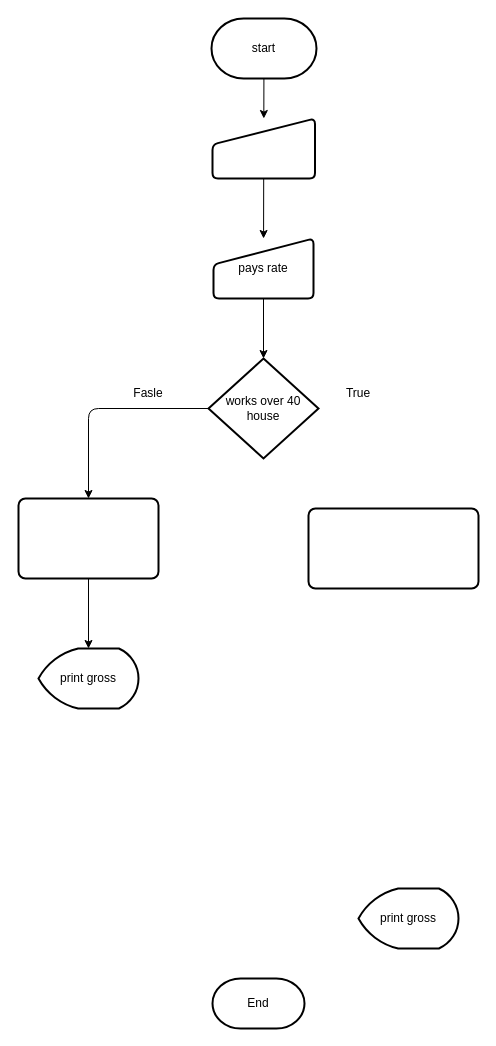
This 496x1046 diagram has some shape labels left out. Here are the shapes that lost their labels. From the top down, the box of each, then its label:
(211, 117, 316, 179): hours works
(17, 497, 159, 579): hours worksd * pats rate
(307, 507, 479, 589): all hours works -
